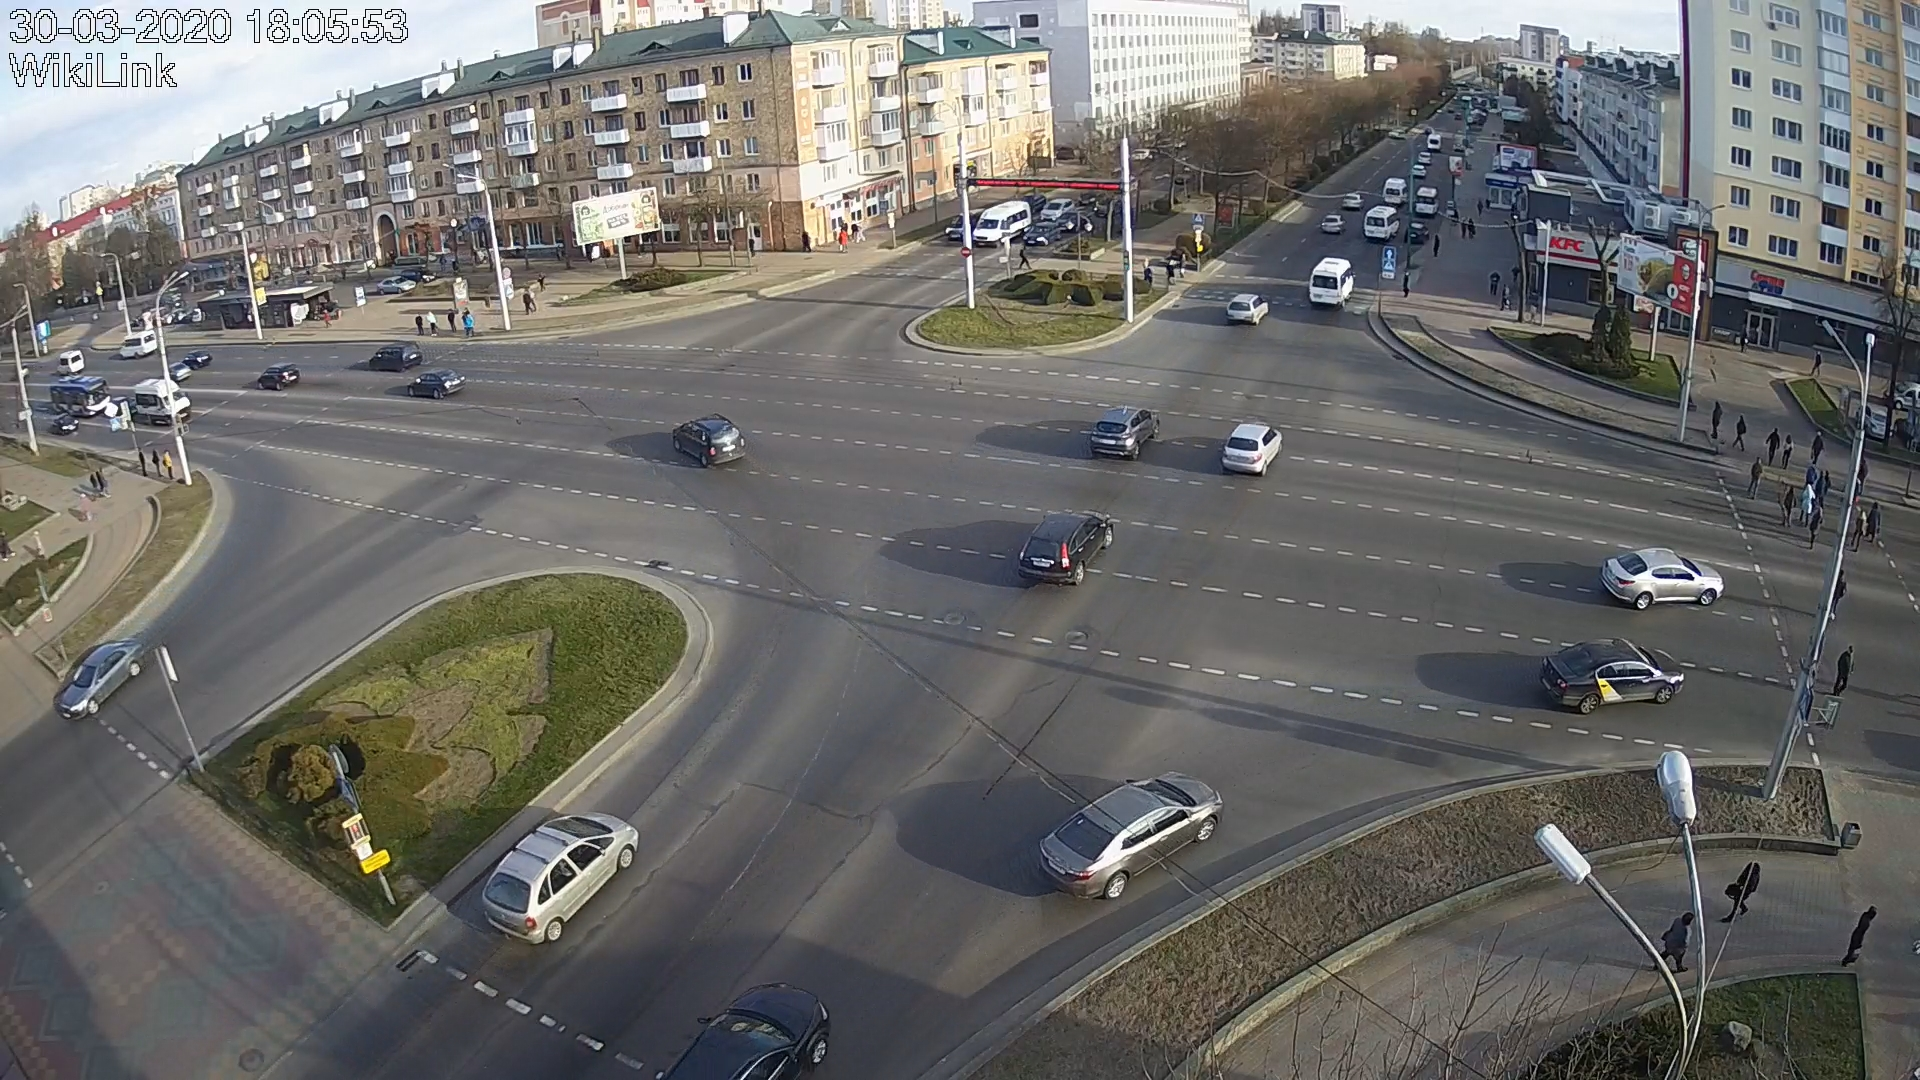car: (1039, 770, 1224, 899), (483, 812, 640, 945), (1539, 638, 1685, 713), (1600, 546, 1725, 611), (1021, 509, 1116, 585), (61, 638, 149, 720), (673, 411, 746, 467), (1091, 406, 1160, 459), (1221, 423, 1284, 477), (972, 200, 1031, 249), (135, 378, 191, 426), (1309, 257, 1356, 309), (407, 368, 467, 400), (369, 342, 423, 373), (1226, 293, 1269, 327), (945, 206, 982, 243), (257, 363, 301, 392), (1023, 222, 1062, 247)
